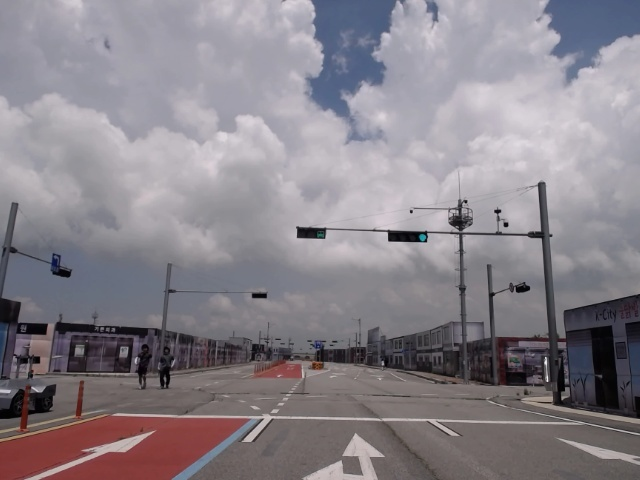straight_green_4: (388, 231, 430, 242)
